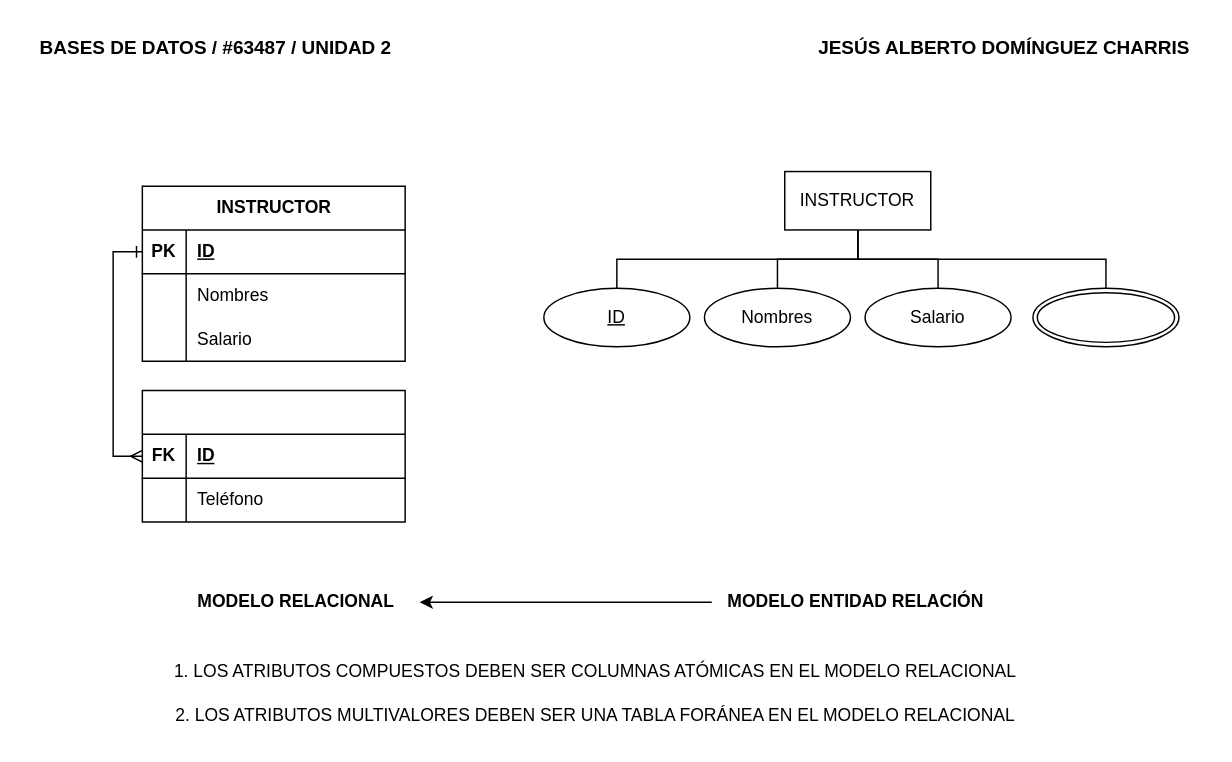
Some shapes in this 1232 by 762 pixel diagram are drawn without their labels. The box of each missing label's shape, as (x1, y1, x2, y2) in pixels:
INSTRUCTOR_TELEFONO: (141, 389, 405, 522)
Teléfonos: (1031, 287, 1179, 347)
